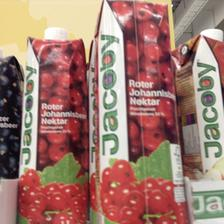Saft: (92, 0, 188, 222), (17, 26, 89, 222)
